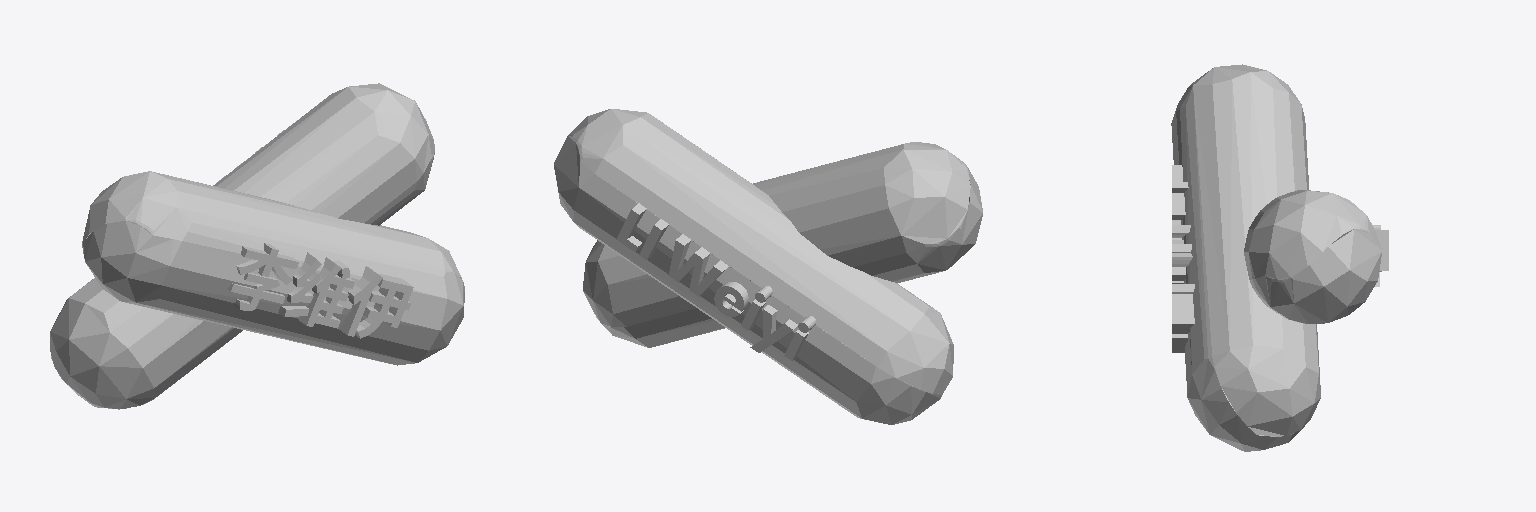
The model's file is LiWeiyi.obj.
The picture shows the model from 3 angles: view 1: azimuth 30°, elevation 25°; view 2: azimuth 150°, elevation 25°; view 3: azimuth 270°, elevation 25°; orthographic projection.
Visible parts, largest first — view 1: root_3, root_2, node_id473; view 2: root_2, root_3, node_id524; view 3: root_3, root_2, node_id473.
Boxes of the visible parts, x1=… form: root_3: x1=82, y1=171, x2=464, y2=365; root_2: x1=50, y1=83, x2=434, y2=409; node_id473: x1=228, y1=243, x2=413, y2=338; root_2: x1=554, y1=109, x2=953, y2=424; root_3: x1=583, y1=142, x2=982, y2=347; node_id524: x1=616, y1=203, x2=815, y2=360; root_3: x1=1171, y1=64, x2=1320, y2=451; root_2: x1=1244, y1=190, x2=1381, y2=323; node_id473: x1=1172, y1=165, x2=1194, y2=352.
Size of the model in its own units: 0.289 by 0.1836 by 0.1444.